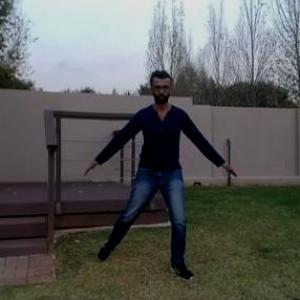land: (101, 71, 222, 281)
